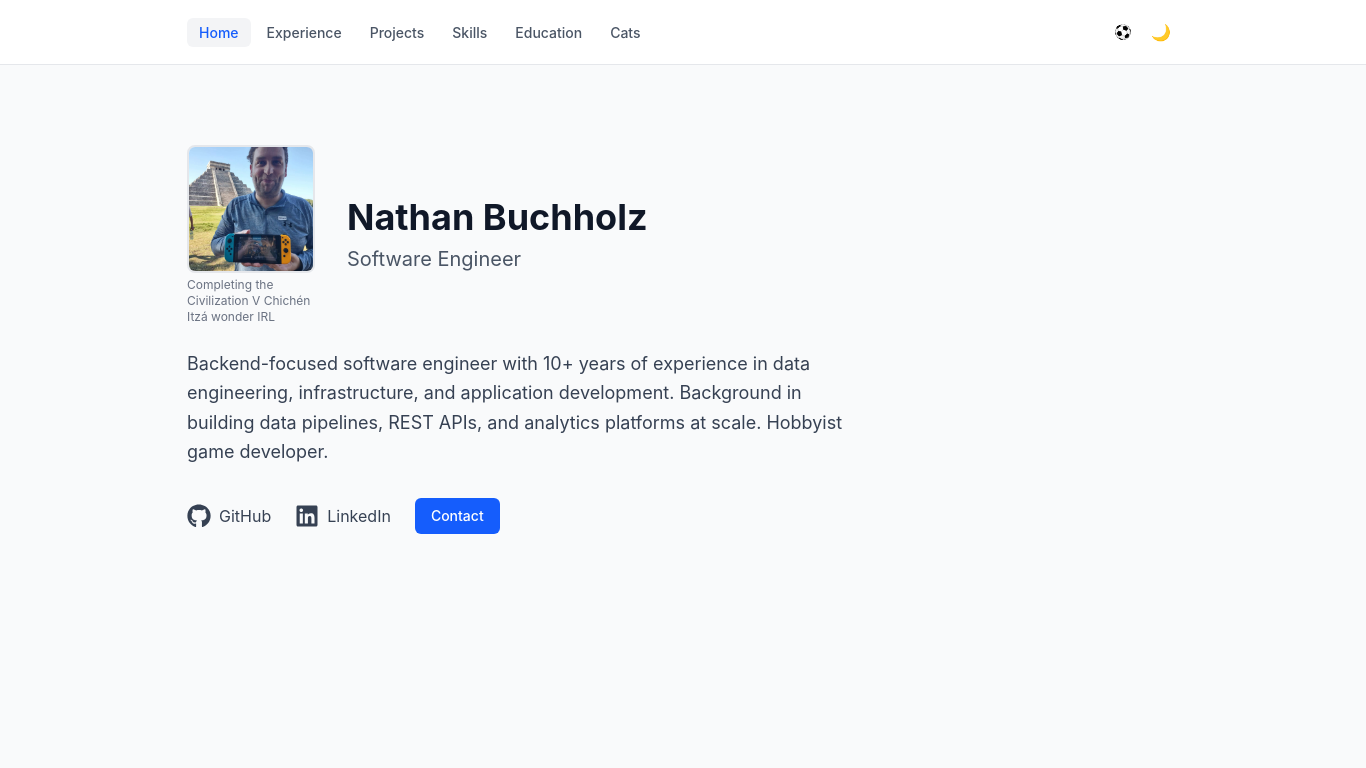
Scenario: Contact Modal › fills form and submits successfully
The image size is (1366, 768).
Click the button "Contact" at (458, 516), box left=415, top=498, right=500, bottom=534
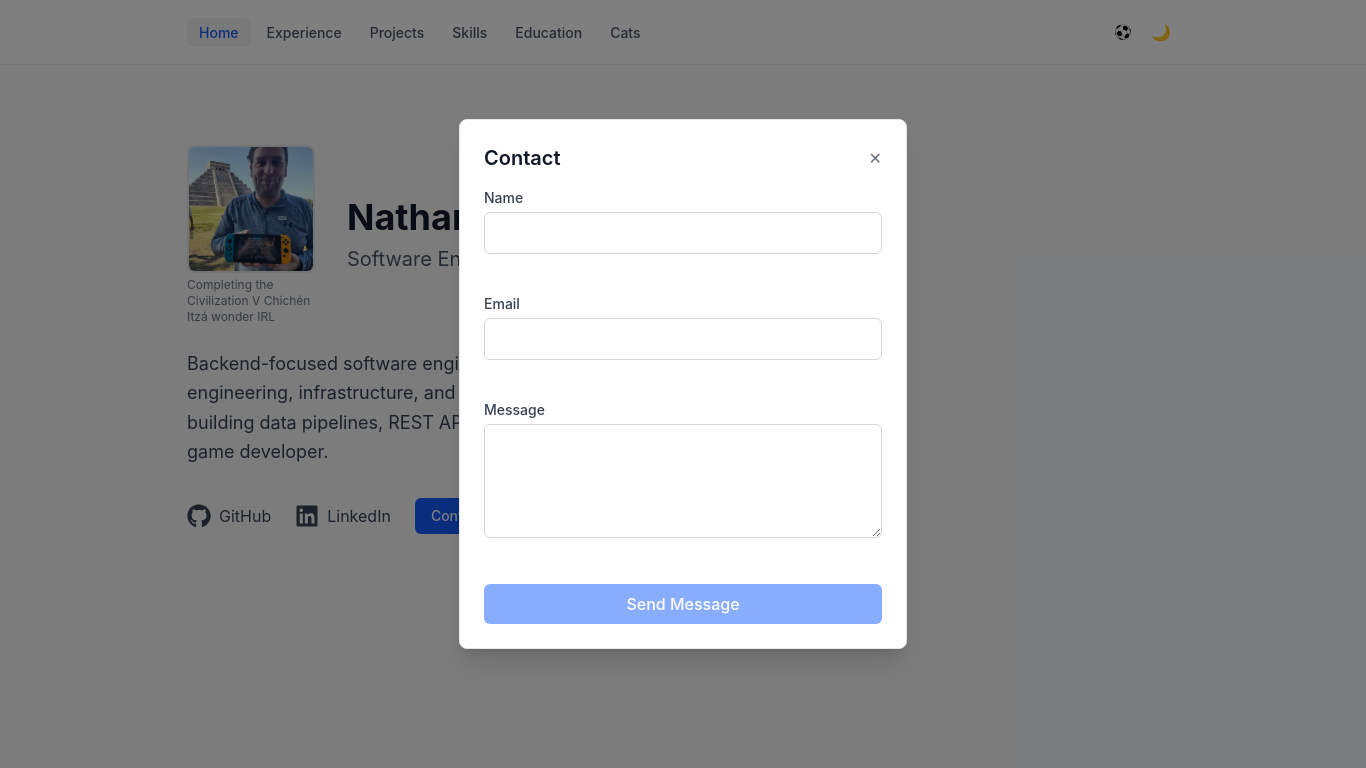
Type "Test User" into the field with id "contact-name" at (683, 233), box left=484, top=212, right=882, bottom=254
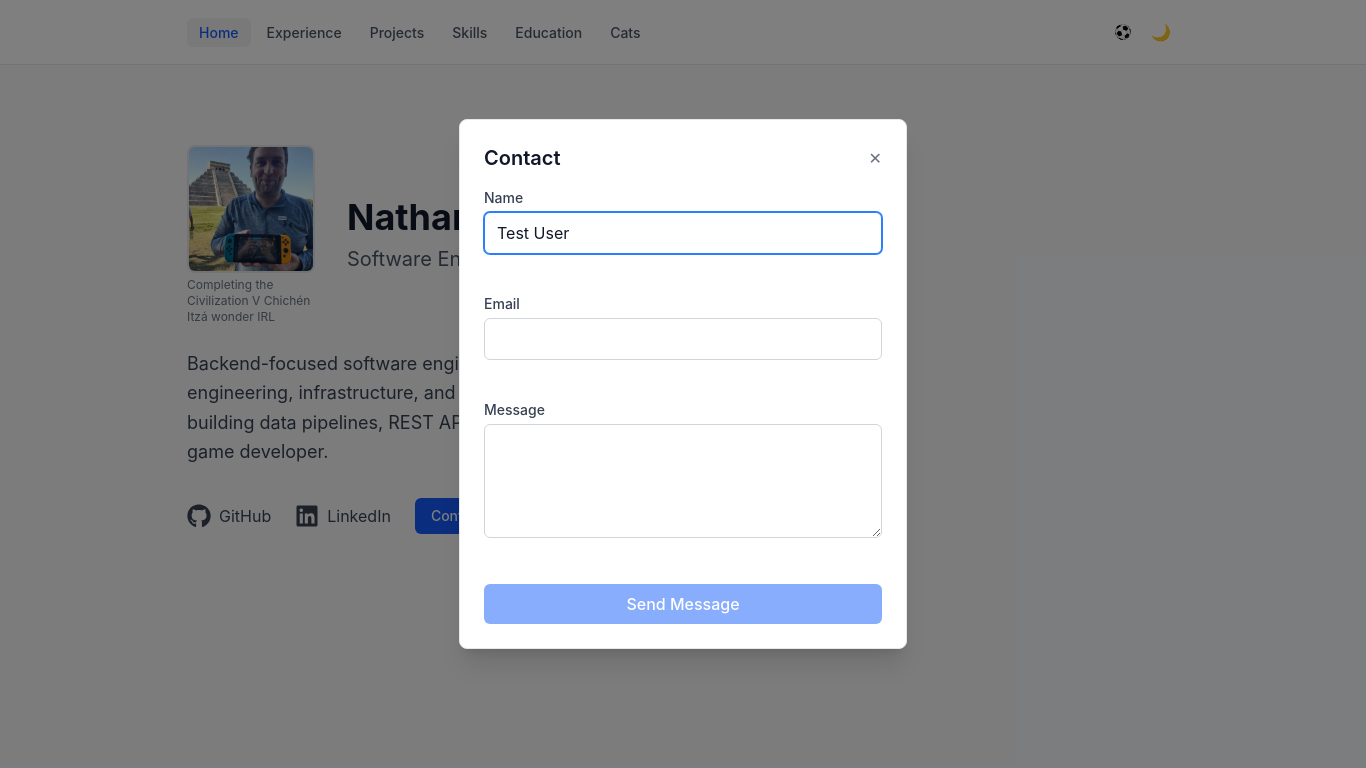
Type "test@example.com" into the field with id "contact-email" at (683, 339), box left=484, top=318, right=882, bottom=360
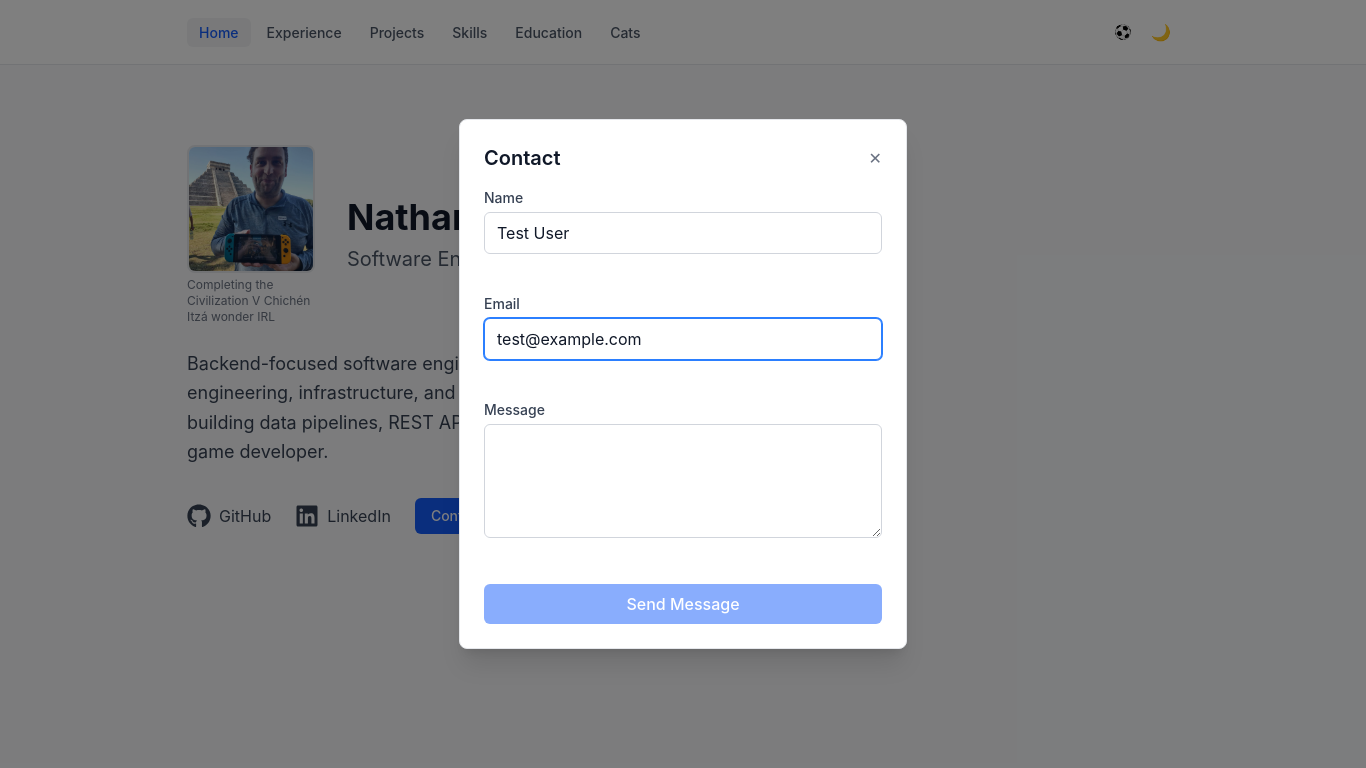
Type "Hello from Cypress" into the text box with id "contact-message" at (683, 481), box left=484, top=424, right=882, bottom=538
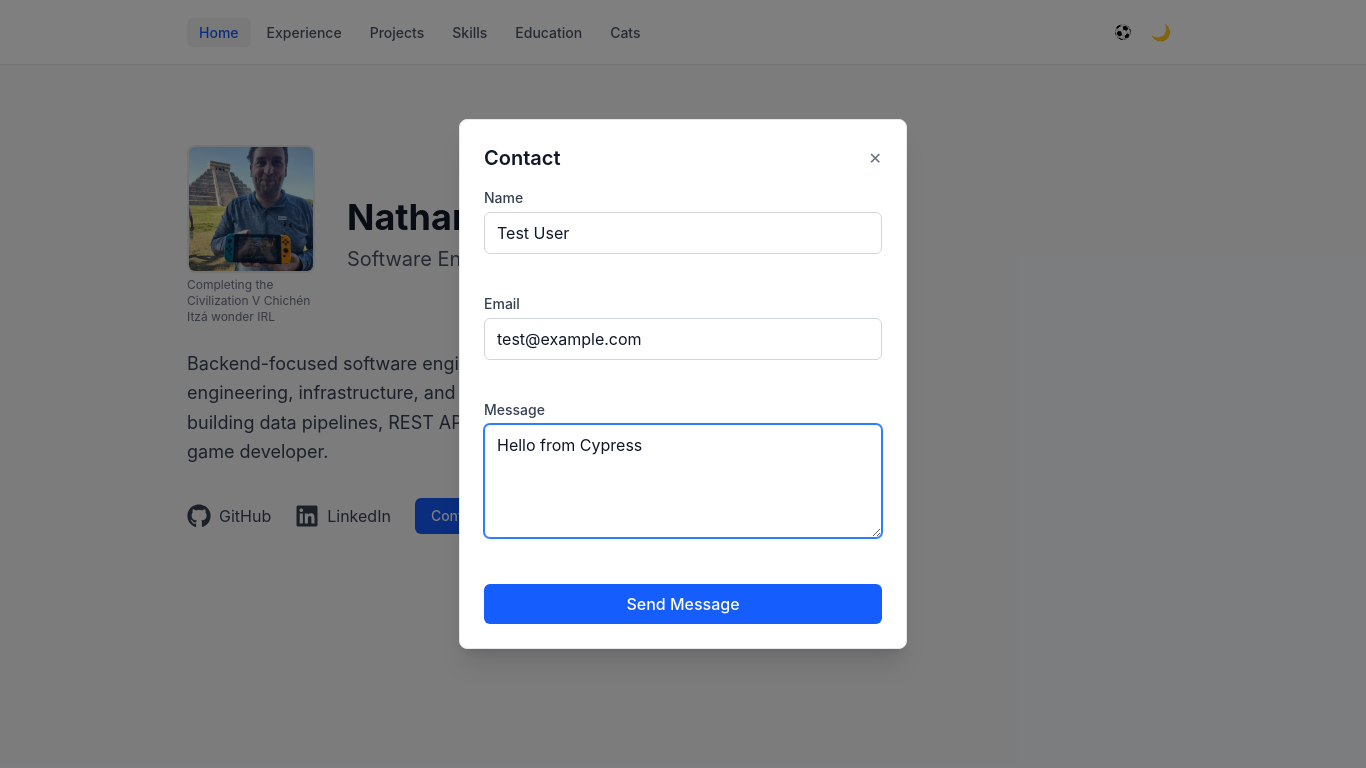
Click the submit button at (683, 604), box left=484, top=584, right=882, bottom=624
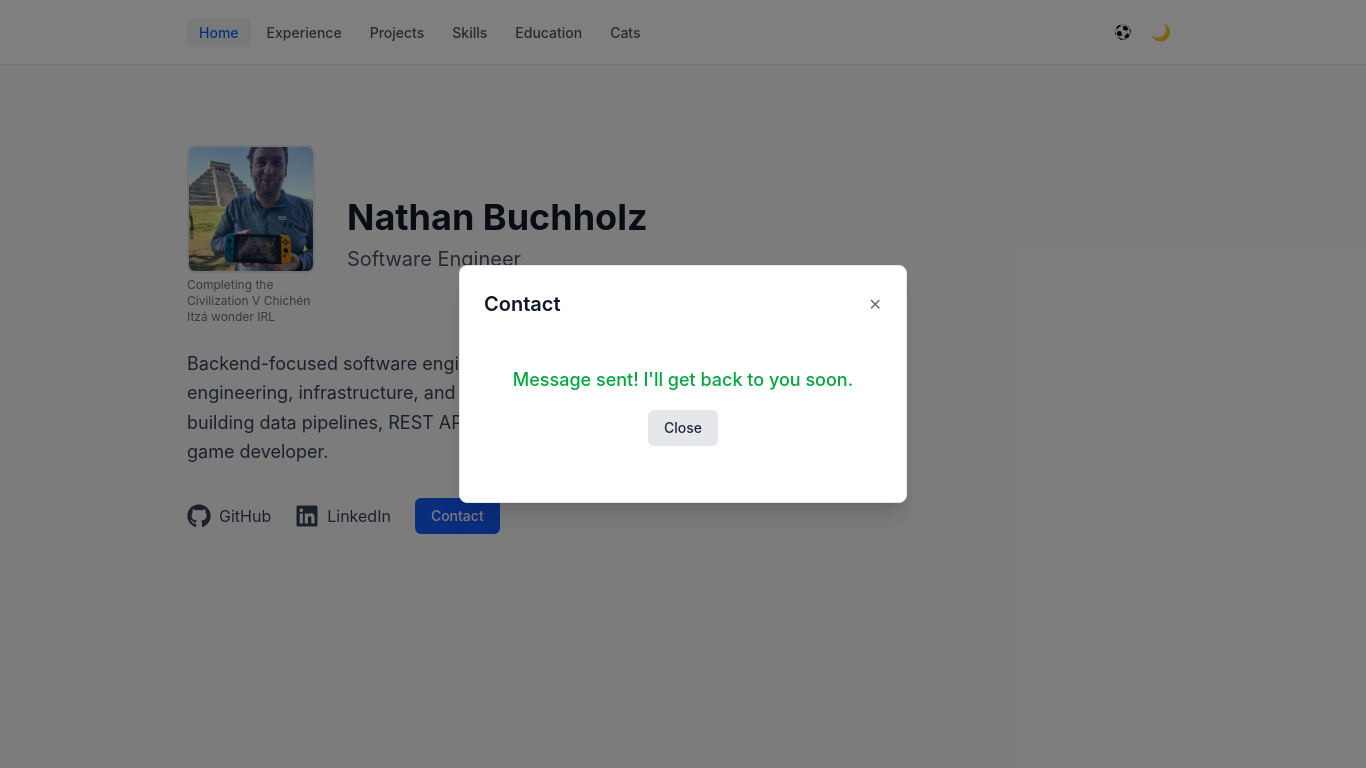
Expected: the text "Message sent" is shown, left=513, top=369, right=853, bottom=390
